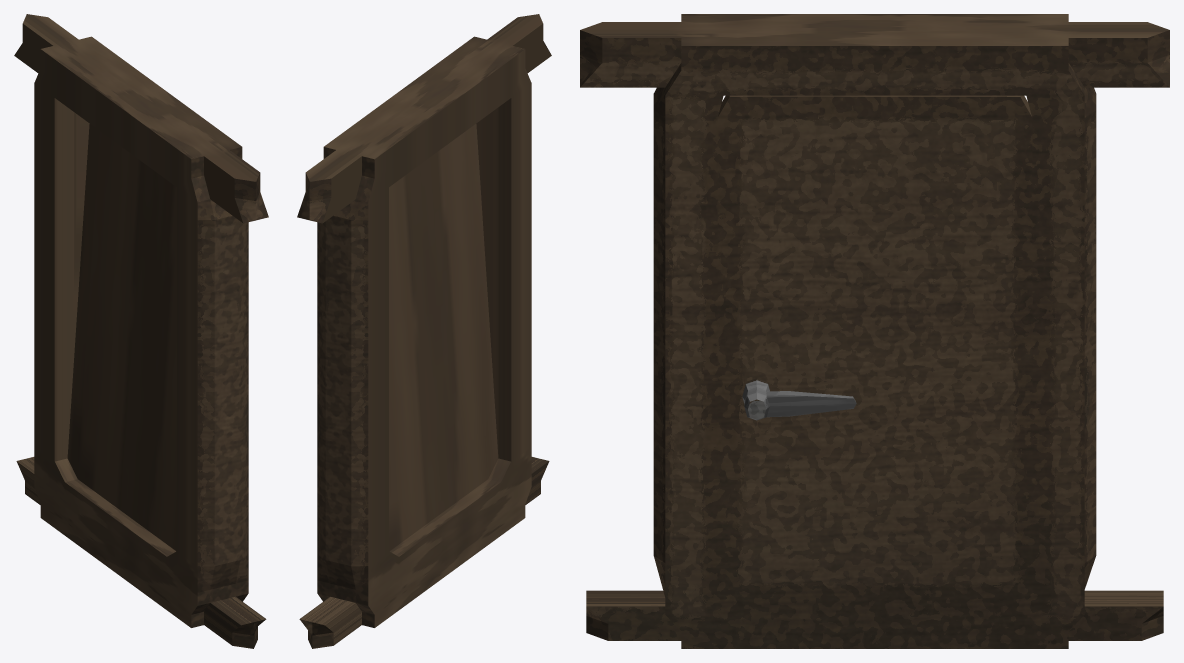
File: door_tavern2.fbx
3 views of the same model, side by side, from view 1: azimuth 30°, elevation 25°; view 2: azimuth 150°, elevation 25°; view 3: azimuth 270°, elevation 25° (orthographic). The views are drawn at different scales.
Visible parts, largest first — view 1: Cube; view 2: Cube; view 3: Cube.
Boxes of the visible parts, x1,y1,x2,y2 form: Cube: [14, 14, 268, 648]; Cube: [297, 14, 551, 648]; Cube: [580, 14, 1169, 648].
Bounding box in the file's own units: 304 × 1754 × 1555.
